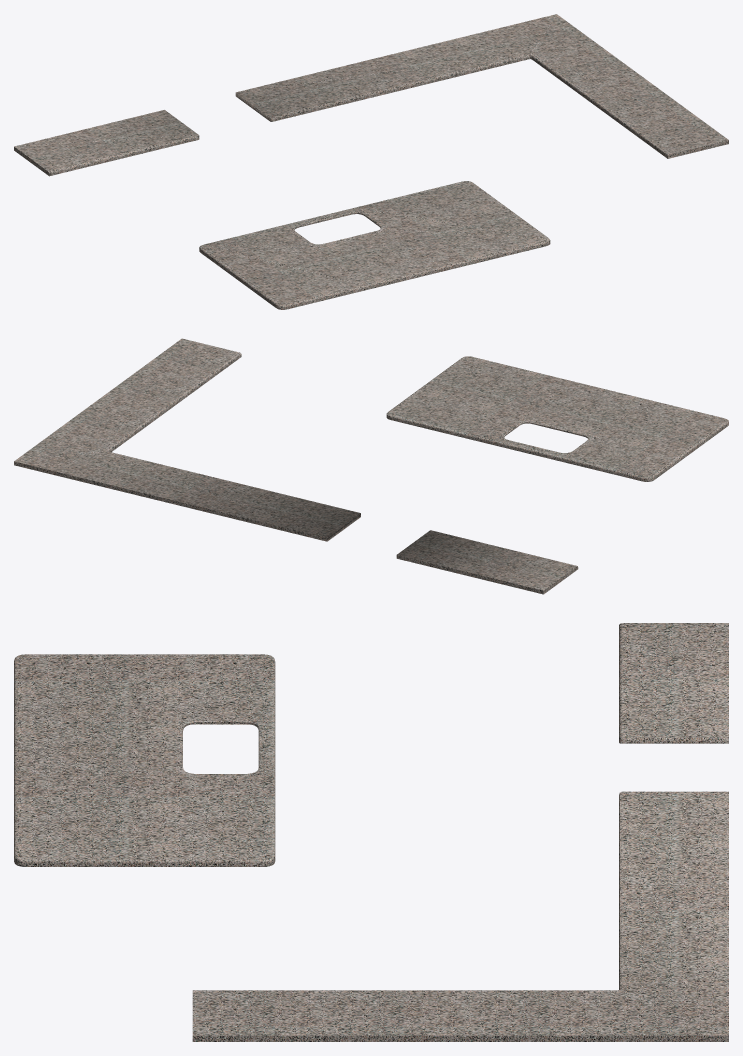
Rendered from Countertops_GraniteCaledonia.glb.
The picture shows the model from 3 angles, top to bottom: view 1: azimuth 30°, elevation 25°; view 2: azimuth 150°, elevation 25°; view 3: azimuth 270°, elevation 25°; orthographic projection. The views are drawn at different scales.
Parts seen in each view (by area): view 1: Countertop_granite_caledonia.001; view 2: Countertop_granite_caledonia.001; view 3: Countertop_granite_caledonia.001.
Part boxes in pixels (x1=…): Countertop_granite_caledonia.001: x1=14, y1=14, x2=728, y2=309; Countertop_granite_caledonia.001: x1=14, y1=338, x2=728, y2=594; Countertop_granite_caledonia.001: x1=14, y1=623, x2=728, y2=1041.
Size of the model in its own units: 7.1 by 0.07 by 5.2.
Materials: 1 (1 with a texture image).
